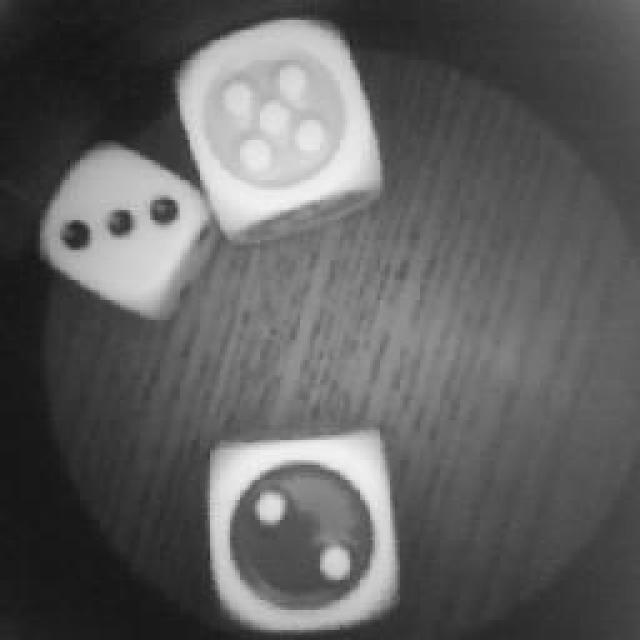dice_2: (202, 430, 410, 638)
dice_3: (42, 145, 212, 320)
dice_5: (182, 20, 388, 228)
